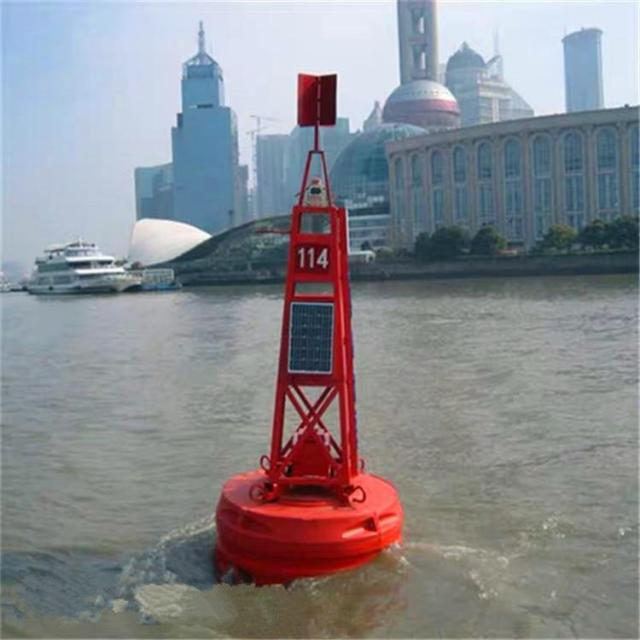buoy: (210, 58, 411, 580)
